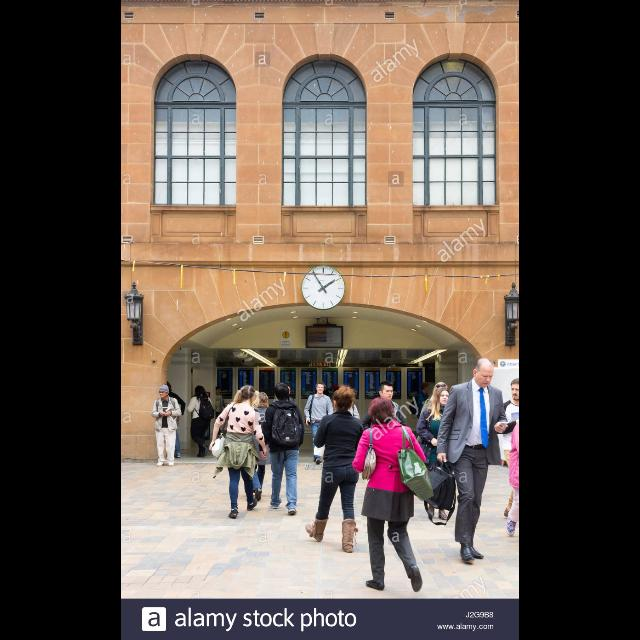head: (474, 359, 496, 389), (372, 396, 394, 424), (333, 390, 355, 412), (241, 386, 257, 404), (380, 381, 394, 401), (254, 392, 270, 408), (438, 387, 452, 405), (276, 383, 290, 401), (435, 382, 449, 398), (158, 387, 170, 399), (282, 384, 292, 398), (316, 382, 326, 394), (162, 381, 172, 393), (194, 386, 206, 394), (215, 386, 222, 396), (421, 383, 429, 391)
person: (416, 357, 509, 566), (349, 395, 437, 595), (304, 383, 370, 554), (208, 384, 270, 520), (360, 379, 412, 513), (257, 382, 307, 516), (413, 386, 462, 520), (412, 380, 463, 508), (240, 390, 280, 504), (302, 380, 336, 466), (152, 379, 188, 458), (150, 383, 183, 467), (270, 382, 300, 468), (408, 381, 440, 451), (186, 385, 216, 459), (209, 386, 231, 438)
